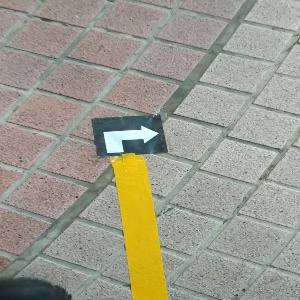right: (92, 118, 166, 154)
